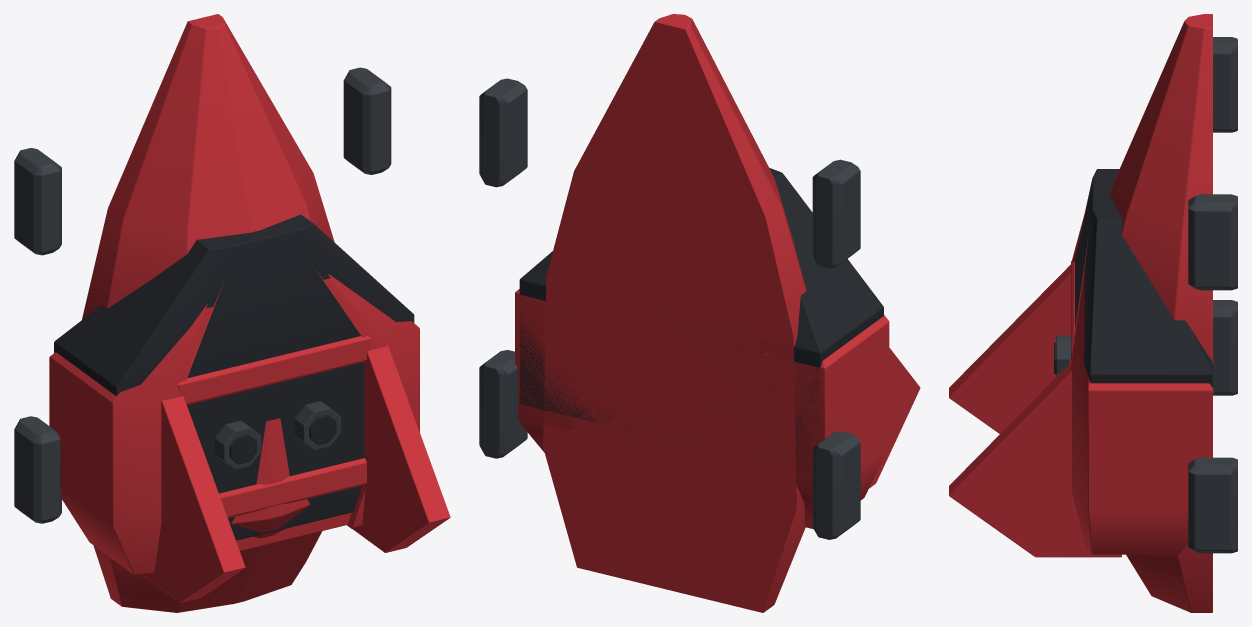
Rendered from CalfBack_Set04_Ripjaw.fbx.
3 views of the same model, side by side, from view 1: azimuth 30°, elevation 25°; view 2: azimuth 150°, elevation 25°; view 3: azimuth 270°, elevation 25° (orthographic). The views are drawn at different scales.
Visible parts, largest first — view 1: CalfBack_Set04_Ripjaw; view 2: CalfBack_Set04_Ripjaw; view 3: CalfBack_Set04_Ripjaw.
Part boxes in pixels (x1=…): CalfBack_Set04_Ripjaw: x1=14, y1=14, x2=450, y2=612; CalfBack_Set04_Ripjaw: x1=479, y1=14, x2=920, y2=612; CalfBack_Set04_Ripjaw: x1=949, y1=14, x2=1237, y2=612.
Size of the model in its own units: 0.49 by 0.73 by 0.3486.
